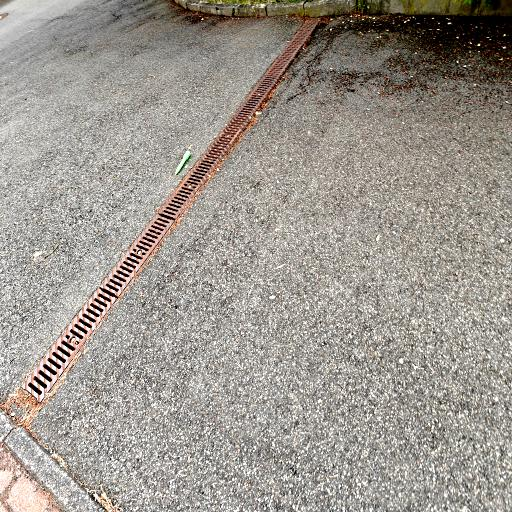Probe-Detection: (175, 150, 191, 175)
